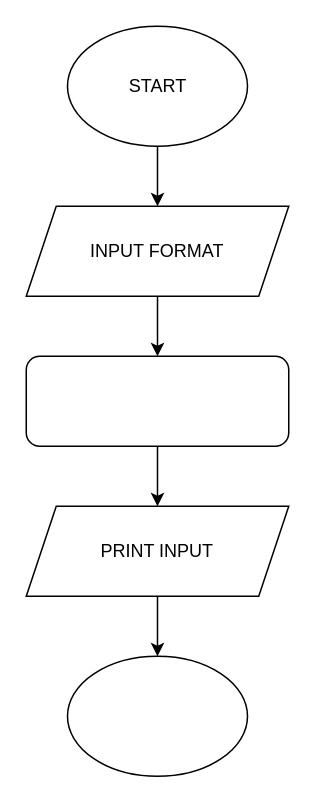
This 315x803 diagram has some shape labels left out. The box of each missing label's shape, as (x1, y1, x2, y2) in pixels:
END: (66, 655, 248, 776)
READ INPUT FORMAT: (25, 355, 289, 446)
